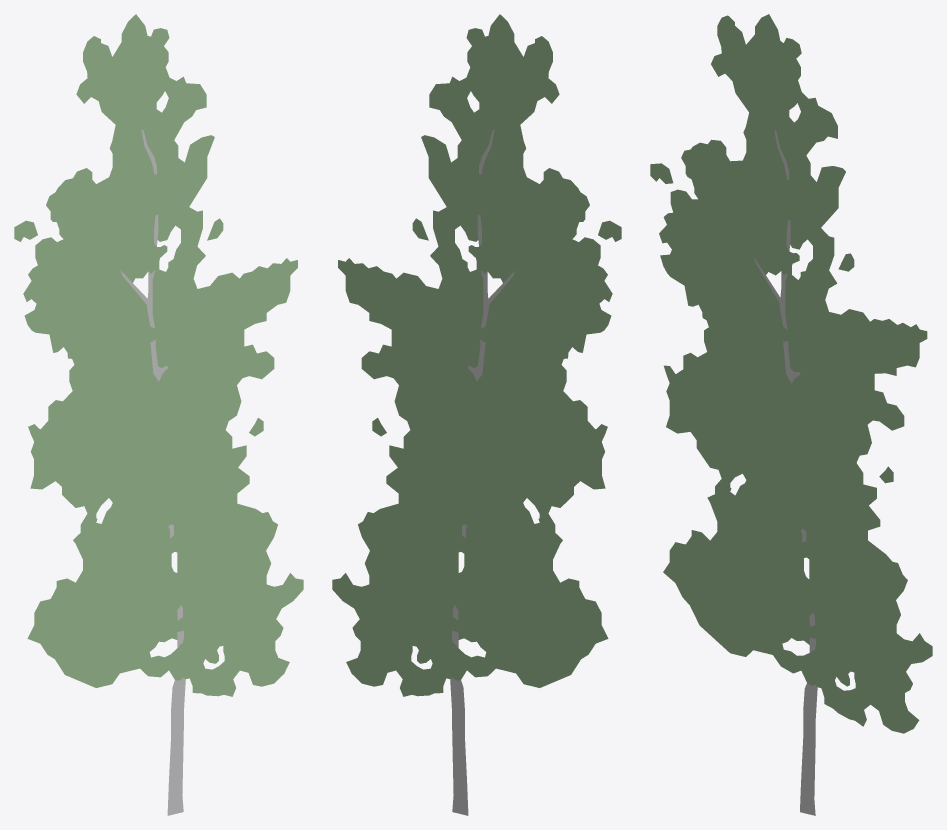
3 renders of one model, left to right at view 1: azimuth 30°, elevation 25°; view 2: azimuth 150°, elevation 25°; view 3: azimuth 330°, elevation 25°, orthographic. The views are drawn at different scales.
Parts seen in each view (by area): view 1: SketchUp.010, SketchUp.008; view 2: SketchUp.010, SketchUp.008; view 3: SketchUp.010, SketchUp.008.
Boxes of the visible parts, left/top/right/bottom form: SketchUp.010: left=23, top=14, right=303, bottom=696; SketchUp.008: left=167, top=678, right=185, bottom=815; SketchUp.010: left=332, top=14, right=612, bottom=696; SketchUp.008: left=450, top=678, right=468, bottom=815; SketchUp.010: left=659, top=14, right=932, bottom=733; SketchUp.008: left=800, top=683, right=817, bottom=815.
Bounding box in the file's own units: 2.89 × 7.75 × 2.65e-15.
